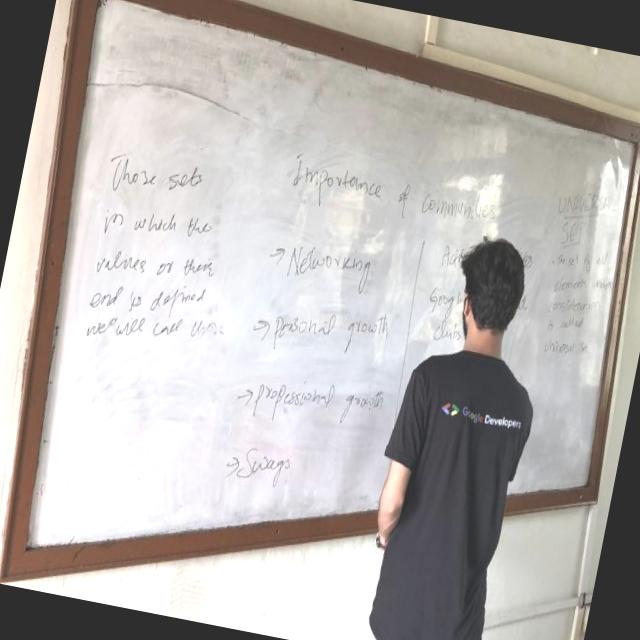Instructor: (363, 222, 563, 640)
White-board: (17, 0, 640, 566)
